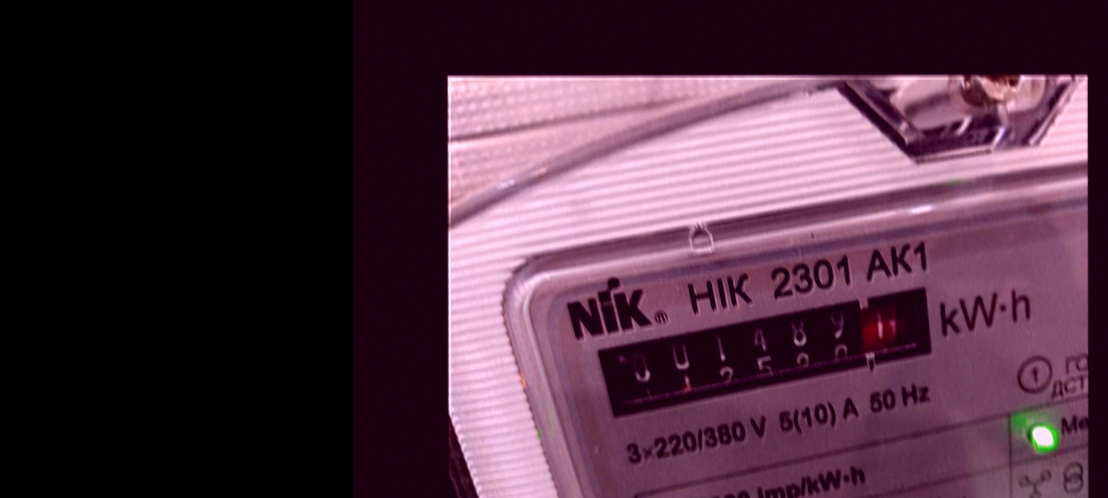0: (668, 337, 694, 373), (630, 351, 654, 386)
1: (871, 304, 890, 342), (712, 333, 732, 364)
4: (750, 322, 772, 354)
8: (790, 314, 811, 350)
9: (829, 308, 849, 340)
screen: (587, 278, 962, 430)
